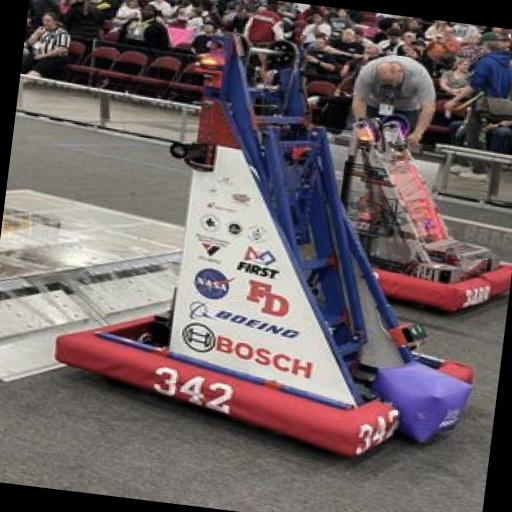robot: (39, 0, 506, 507), (319, 103, 512, 322)
